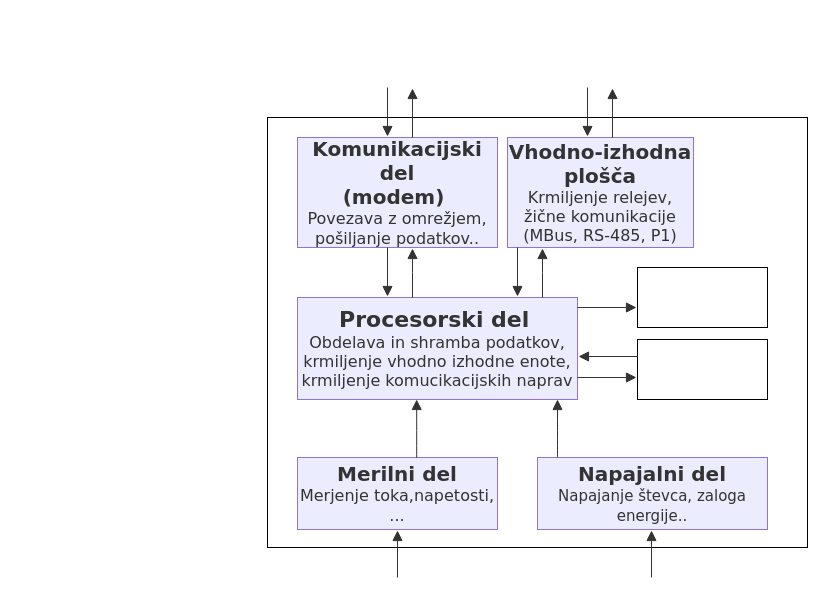
This 825x605 diagram has some shape labels left out. The box of each missing label's shape, as (x1, y1, x2, y2) in pixels:
LCD: (636, 266, 768, 328)
Optični port: (636, 338, 768, 400)
